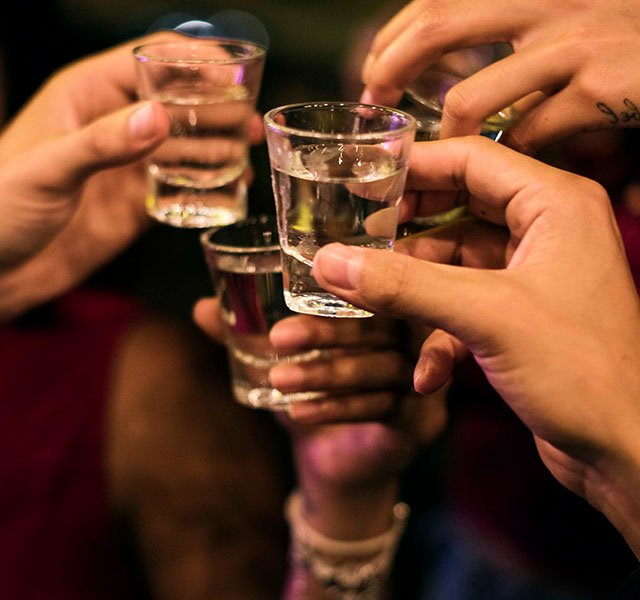Glass: (254, 102, 414, 321), (124, 41, 253, 235)
